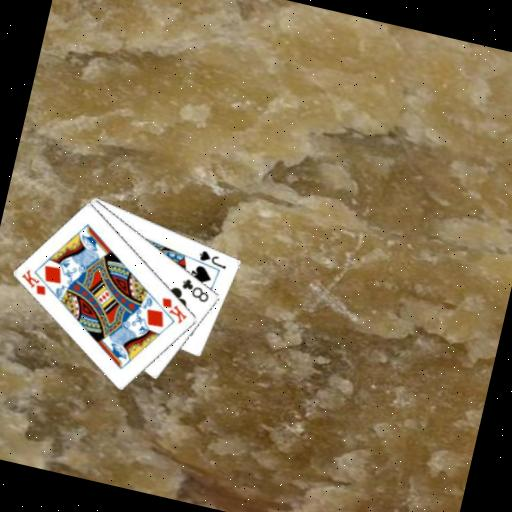8C: (177, 275, 215, 305)
JS: (195, 246, 231, 271)
KD: (155, 293, 193, 327), (15, 265, 52, 298)
